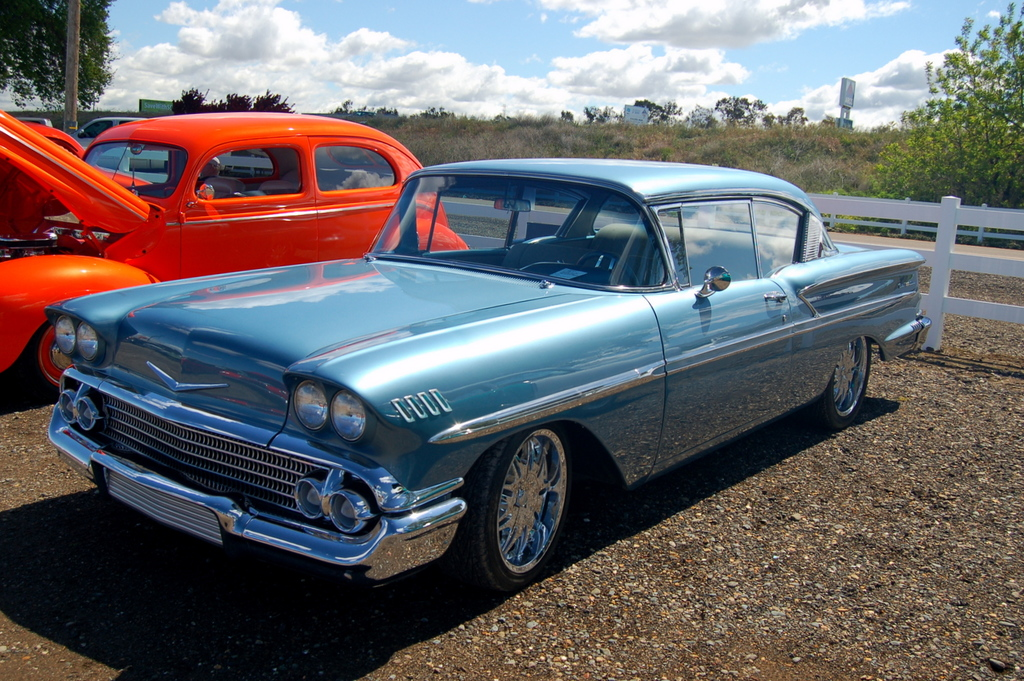Car: (46, 154, 932, 593), (0, 114, 469, 394), (68, 119, 166, 168), (14, 116, 52, 126)
